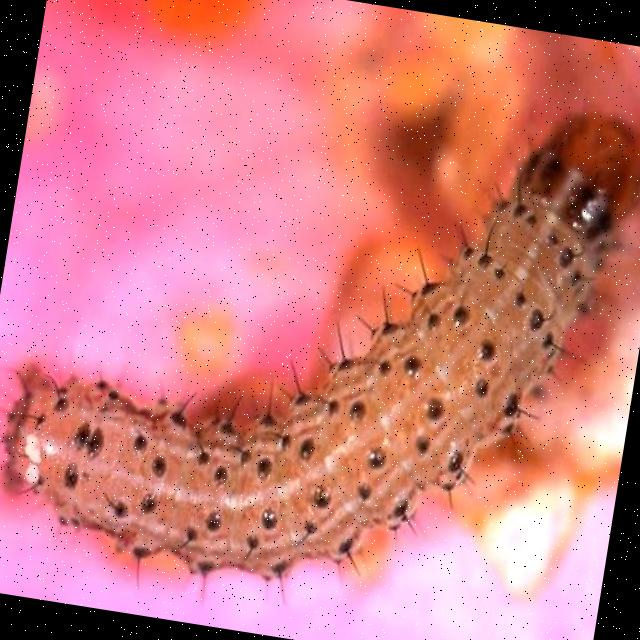worm: (1, 25, 640, 640)
